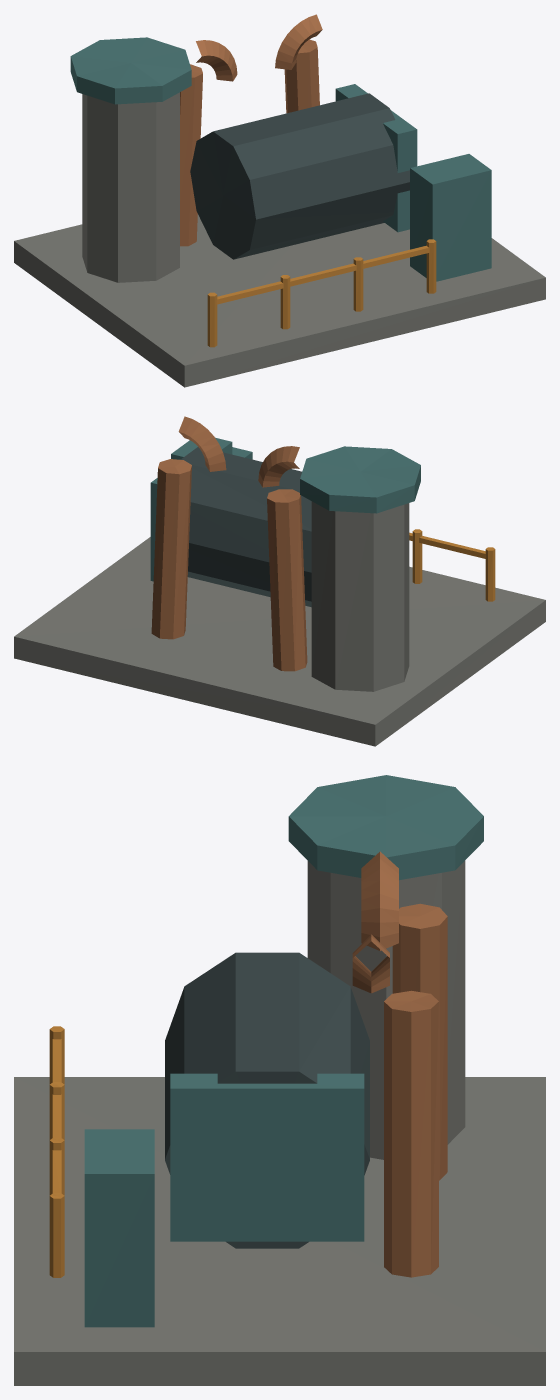
Rendered from Geothermal-Plant.glb.
3 views of the same model, one above another, from view 1: azimuth 30°, elevation 25°; view 2: azimuth 150°, elevation 25°; view 3: azimuth 270°, elevation 25° (orthographic). The views are drawn at different scales.
Parts seen in each view (by area): view 1: geothermal-plant-static-geothermal-concrete, geothermal-plant-static-geothermal-turbine-charcoal, geothermal-plant-static-geothermal-service-teal, geothermal-plant-static-geothermal-copper-pipe, geothermal-plant-static-geothermal-safety-amber; view 2: geothermal-plant-static-geothermal-concrete, geothermal-plant-static-geothermal-copper-pipe, geothermal-plant-static-geothermal-turbine-charcoal, geothermal-plant-static-geothermal-service-teal, geothermal-plant-static-geothermal-safety-amber; view 3: geothermal-plant-static-geothermal-concrete, geothermal-plant-static-geothermal-service-teal, geothermal-plant-static-geothermal-copper-pipe, geothermal-plant-static-geothermal-turbine-charcoal, geothermal-plant-static-geothermal-safety-amber.
Part boxes in pixels (box(x1,y1,x2,y2)): geothermal-plant-static-geothermal-concrete: box(14, 92, 545, 387); geothermal-plant-static-geothermal-turbine-charcoal: box(190, 93, 409, 259); geothermal-plant-static-geothermal-service-teal: box(70, 37, 491, 281); geothermal-plant-static-geothermal-copper-pipe: box(180, 14, 322, 246); geothermal-plant-static-geothermal-safety-amber: box(207, 239, 436, 347); geothermal-plant-static-geothermal-concrete: box(14, 501, 545, 746); geothermal-plant-static-geothermal-copper-pipe: box(151, 416, 307, 671); geothermal-plant-static-geothermal-turbine-charcoal: box(180, 447, 311, 607); geothermal-plant-static-geothermal-service-teal: box(150, 437, 420, 581); geothermal-plant-static-geothermal-safety-amber: box(409, 529, 495, 601); geothermal-plant-static-geothermal-concrete: box(14, 860, 545, 1385); geothermal-plant-static-geothermal-service-teal: box(84, 775, 483, 1327); geothermal-plant-static-geothermal-copper-pipe: box(352, 851, 447, 1277); geothermal-plant-static-geothermal-turbine-charcoal: box(165, 952, 369, 1248); geothermal-plant-static-geothermal-safety-amber: box(49, 1026, 64, 1277).
Size of the model in its own units: 5.2 by 3.15 by 4.25.
